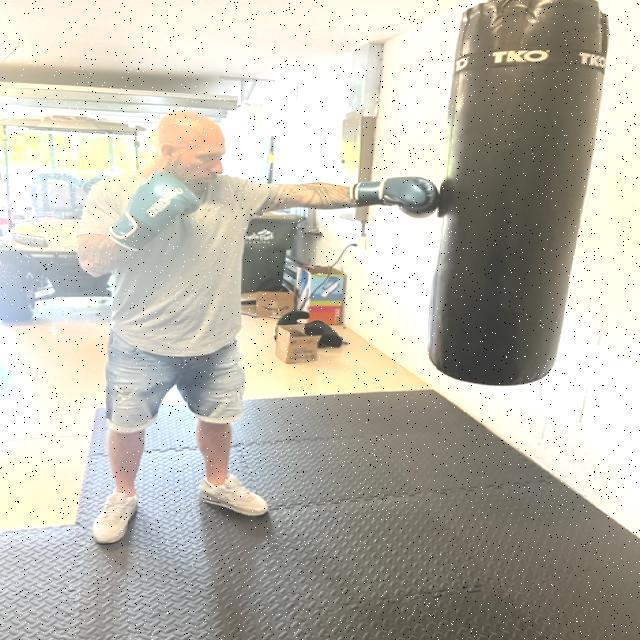jab: (90, 106, 456, 256)
